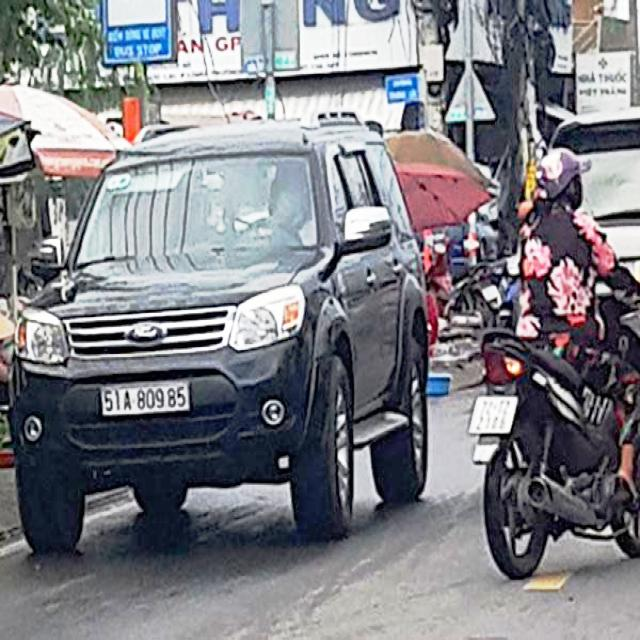license_plate: (103, 381, 190, 414)
